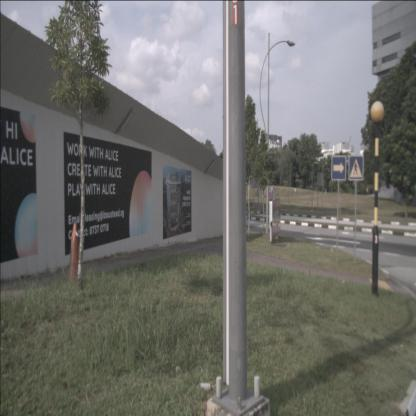cone: (65, 222, 83, 290)
